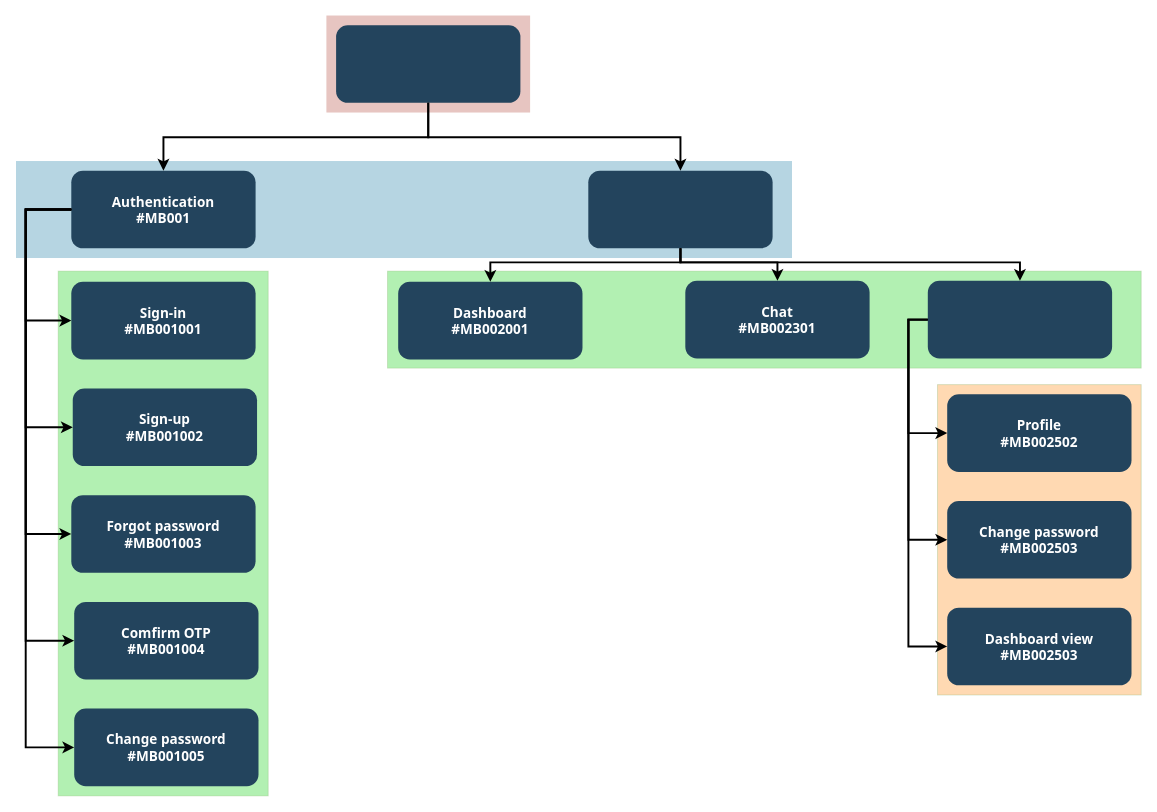
Image size: 1157x812. Some labels were removed from this diagram. Here are the shapes that lost their labels. From the top down, the centre of each, then its label:
the point at 428,63: Mark App
the point at 680,209: APP #MB002
the point at 1019,319: Setting #MB002501
